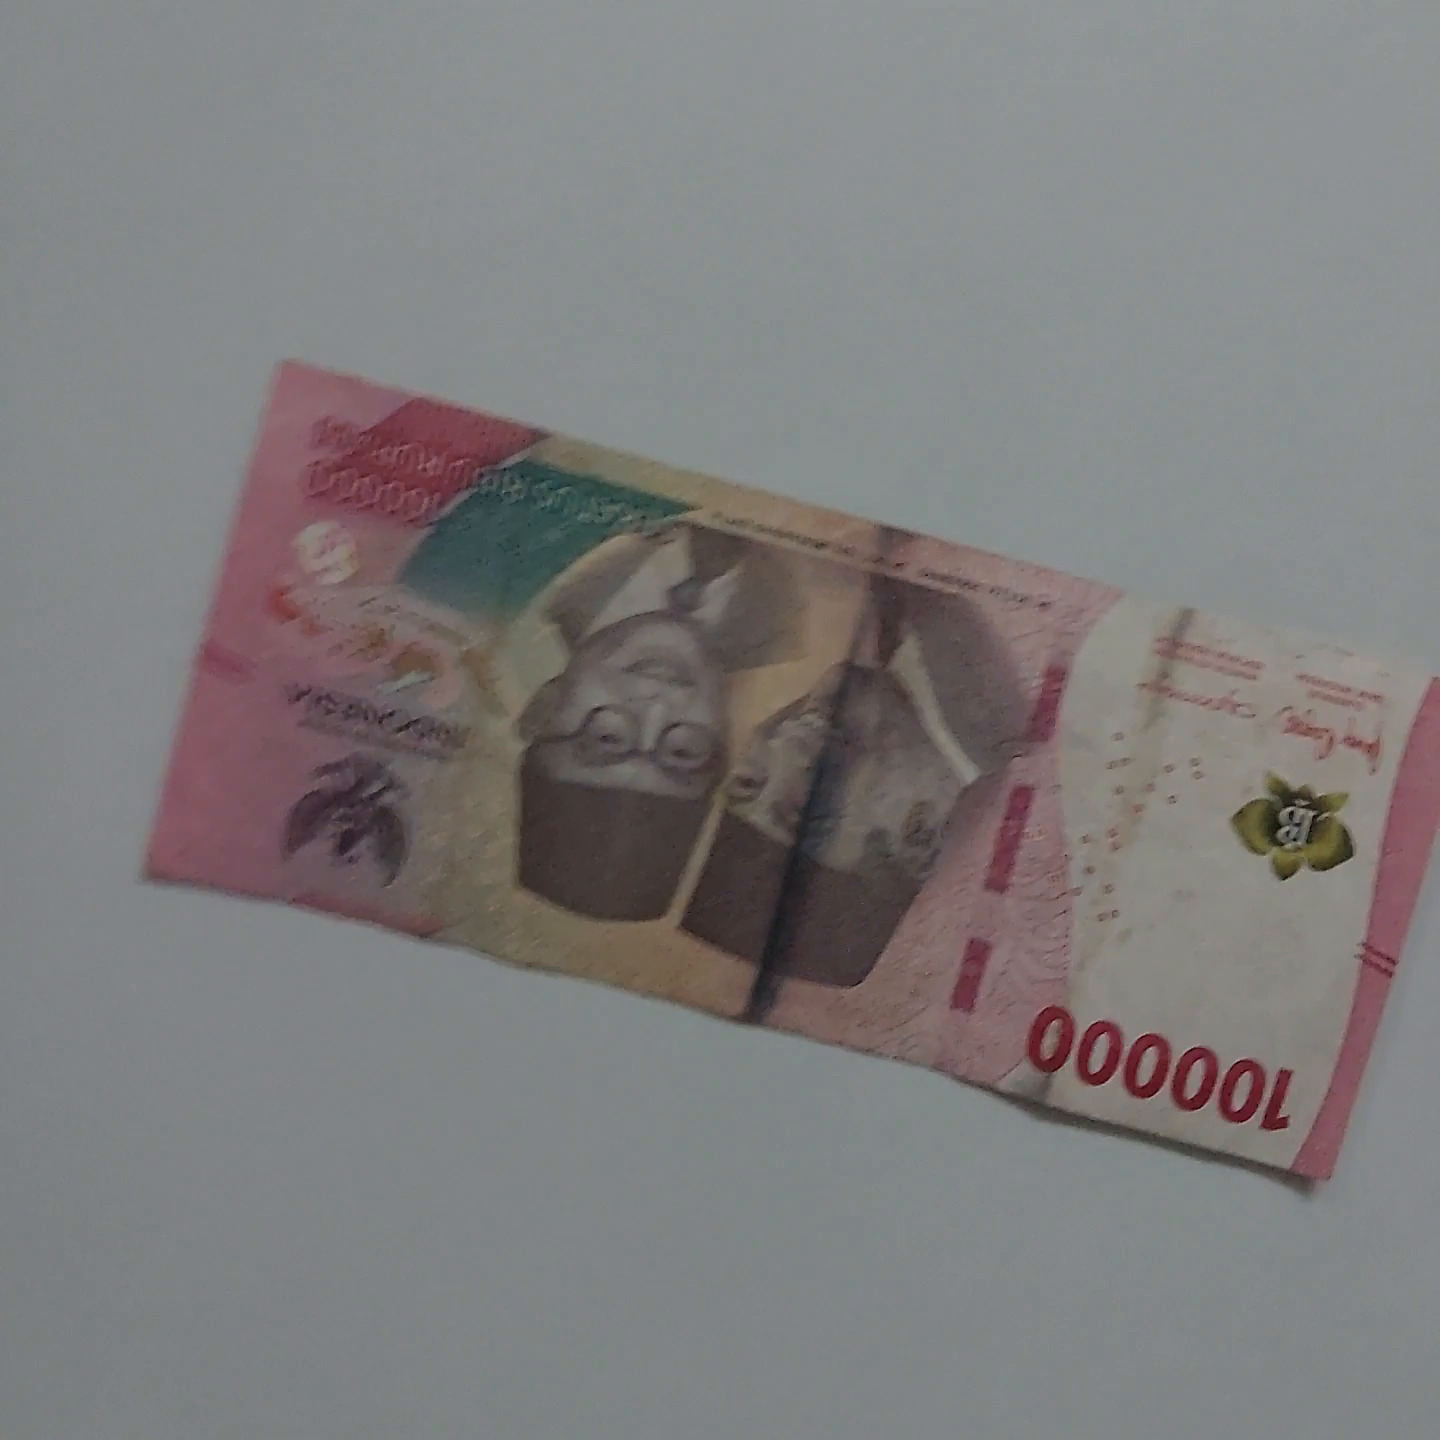100k: (128, 347, 1440, 1207)
